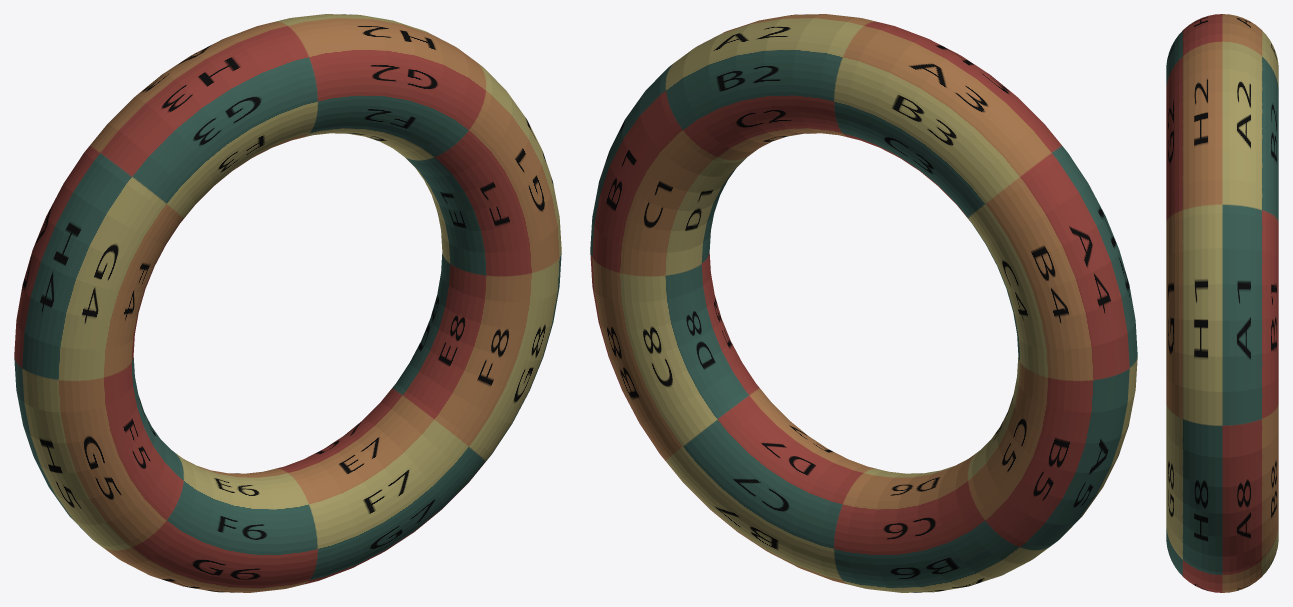
File: texture_torus_R9_r7.glb
3 renders of one model, left to right at view 1: azimuth 30°, elevation 25°; view 2: azimuth 150°, elevation 25°; view 3: azimuth 270°, elevation 25°, orthographic. The views are drawn at different scales.
Visible parts, largest first — view 1: world; view 2: world; view 3: world.
Boxes of the visible parts, x1=… form: world: x1=14, y1=14, x2=561, y2=592; world: x1=590, y1=14, x2=1137, y2=592; world: x1=1166, y1=14, x2=1278, y2=592.
Bounding box in the file's own units: 19.87 × 19.83 × 3.86.
Materials: 1 (1 with a texture image).
